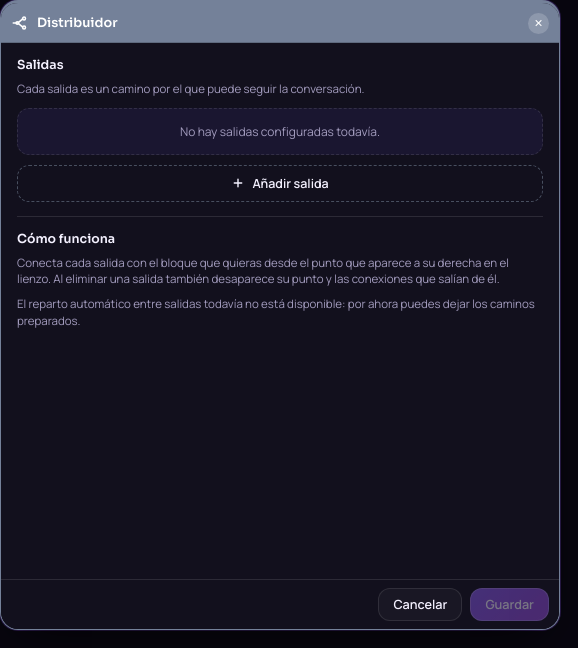
eliminar salidas › vaciar la lista devuelve el estado vacío, no un nodo roto
The image size is (578, 648).
Click the button "Añadir salida" at (280, 183), box left=17, top=165, right=543, bottom=202
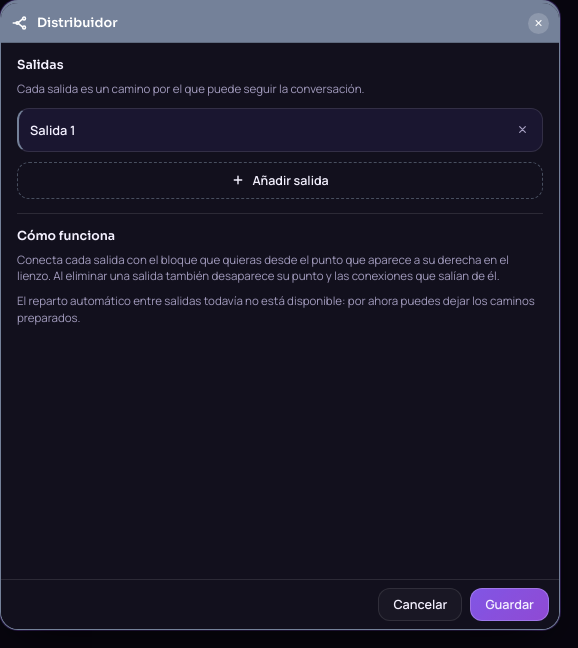
Click the button named "Eliminar Salida 1" at (522, 130), box left=510, top=118, right=534, bottom=142
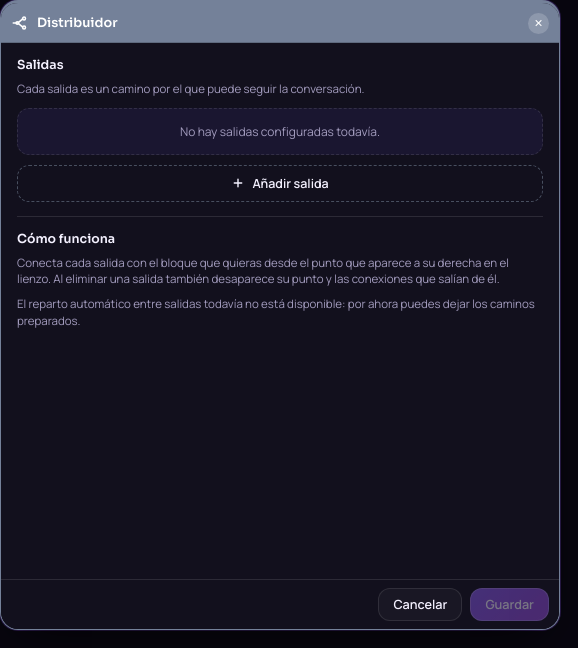
Now the text "No hay salidas configuradas todavía." is shown, box left=17, top=108, right=543, bottom=155
